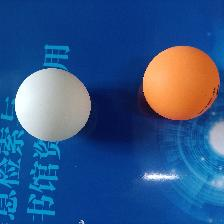WhiteBall: (14, 67, 90, 142)
YellowBall: (142, 45, 219, 121)
